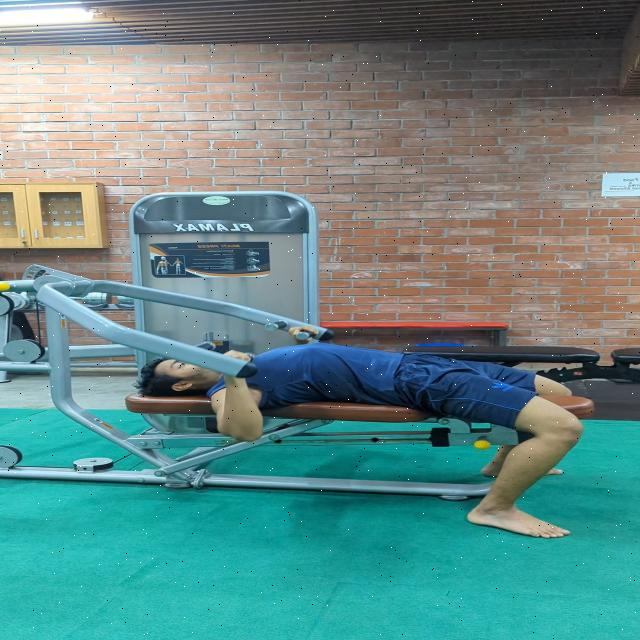Normal_BrenchPress: (91, 290, 600, 554)
